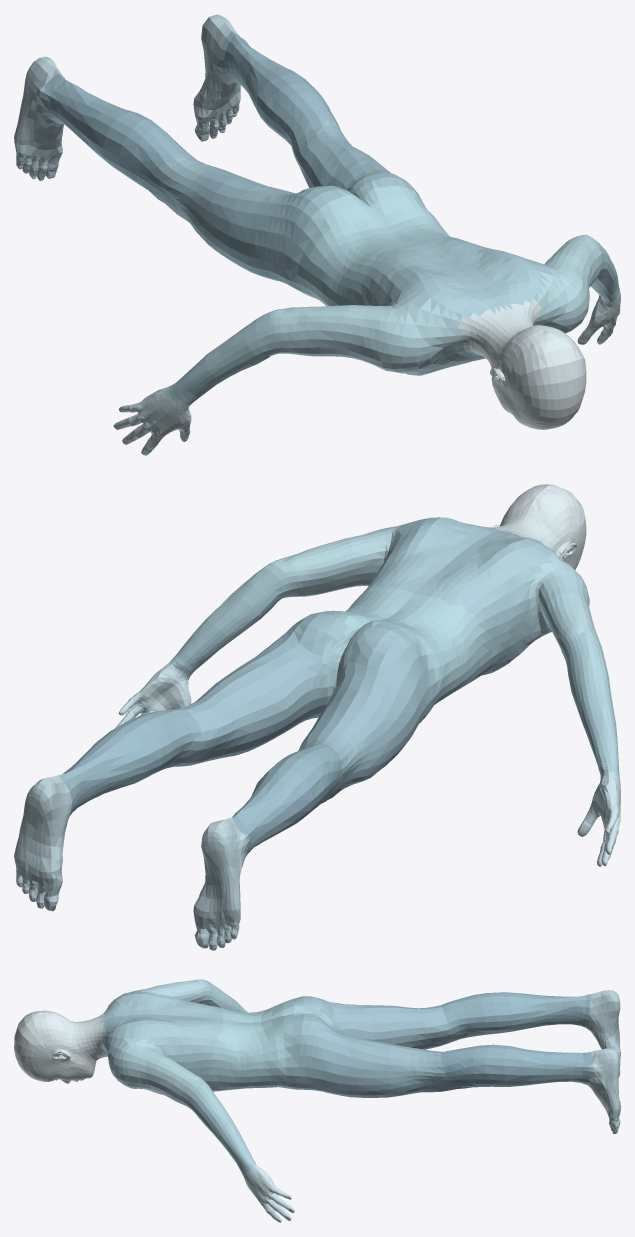
File: crew_C8.glb
3 views of the same model, one above another, from view 1: azimuth 30°, elevation 25°; view 2: azimuth 150°, elevation 25°; view 3: azimuth 270°, elevation 25° (orthographic). The views are drawn at different scales.
Visible parts, largest first — view 1: right_thigh, abdomen, chest, right_upper_arm, head, right_lower_leg, left_lower_leg, left_upper_arm, right_foot, right_forearm, left_thigh, left_foot (+5 smaller); view 2: abdomen, left_thigh, right_thigh, chest, left_lower_leg, right_lower_leg, left_foot, left_upper_arm, right_foot, left_forearm, right_forearm, right_upper_arm (+5 smaller); view 3: left_thigh, abdomen, chest, left_lower_leg, right_lower_leg, right_thigh, head, left_upper_arm, left_forearm, left_foot, right_foot, left_hand (+4 smaller).
Part boxes in pixels (x1=…): right_thigh: x1=153, y1=157, x2=307, y2=291; abdomen: x1=356, y1=237, x2=552, y2=375; chest: x1=290, y1=181, x2=458, y2=306; right_upper_arm: x1=269, y1=297, x2=471, y2=374; head: x1=488, y1=325, x2=586, y2=429; right_lower_leg: x1=39, y1=73, x2=196, y2=197; left_lower_leg: x1=216, y1=31, x2=337, y2=145; left_upper_arm: x1=536, y1=235, x2=602, y2=333; right_foot: x1=14, y1=56, x2=63, y2=180; right_forearm: x1=165, y1=309, x2=283, y2=405; left_thigh: x1=290, y1=119, x2=402, y2=190; left_foot: x1=193, y1=14, x2=247, y2=141; abdomen: x1=367, y1=517, x2=553, y2=679; left_thigh: x1=174, y1=619, x2=327, y2=766; right_thigh: x1=298, y1=641, x2=437, y2=800; chest: x1=322, y1=583, x2=487, y2=709; left_lower_leg: x1=59, y1=709, x2=201, y2=815; right_lower_leg: x1=231, y1=743, x2=341, y2=856; left_foot: x1=14, y1=775, x2=72, y2=911; left_upper_arm: x1=275, y1=522, x2=410, y2=597; right_foot: x1=193, y1=817, x2=249, y2=950; left_forearm: x1=169, y1=561, x2=285, y2=678; right_forearm: x1=565, y1=636, x2=619, y2=776; right_upper_arm: x1=529, y1=544, x2=601, y2=659; left_thigh: x1=285, y1=1020, x2=458, y2=1097; abdomen: x1=100, y1=991, x2=222, y2=1094; chest: x1=208, y1=999, x2=335, y2=1091; left_lower_leg: x1=441, y1=1044, x2=593, y2=1088; right_lower_leg: x1=441, y1=992, x2=593, y2=1039; right_thigh: x1=313, y1=997, x2=466, y2=1049; head: x1=14, y1=1010, x2=99, y2=1083; left_upper_arm: x1=103, y1=1030, x2=204, y2=1106; left_forearm: x1=187, y1=1080, x2=256, y2=1172; left_foot: x1=585, y1=1047, x2=620, y2=1133; right_foot: x1=585, y1=990, x2=620, y2=1076; left_hand: x1=241, y1=1165, x2=294, y2=1222.
Size of the model in its own units: 1.13 by 0.4446 by 1.75.
